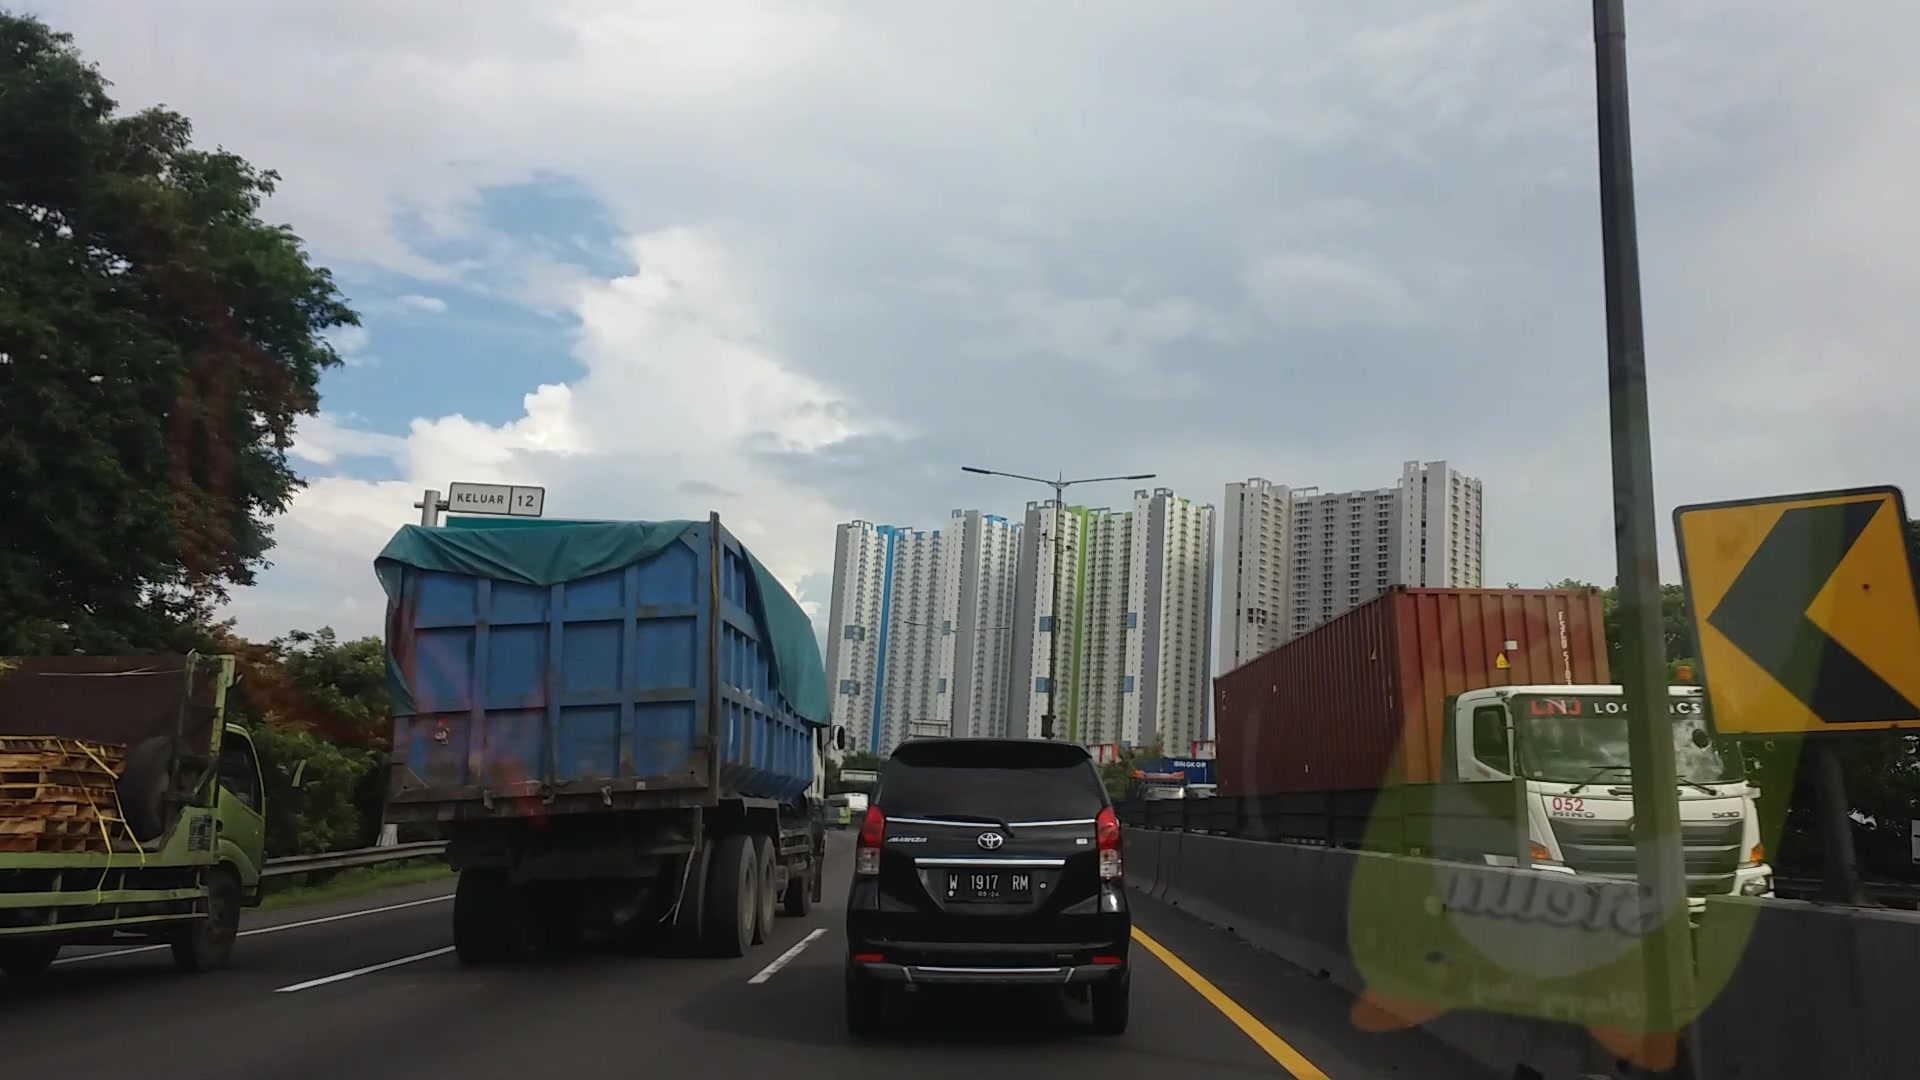plate_positive: (945, 870, 1031, 899)
